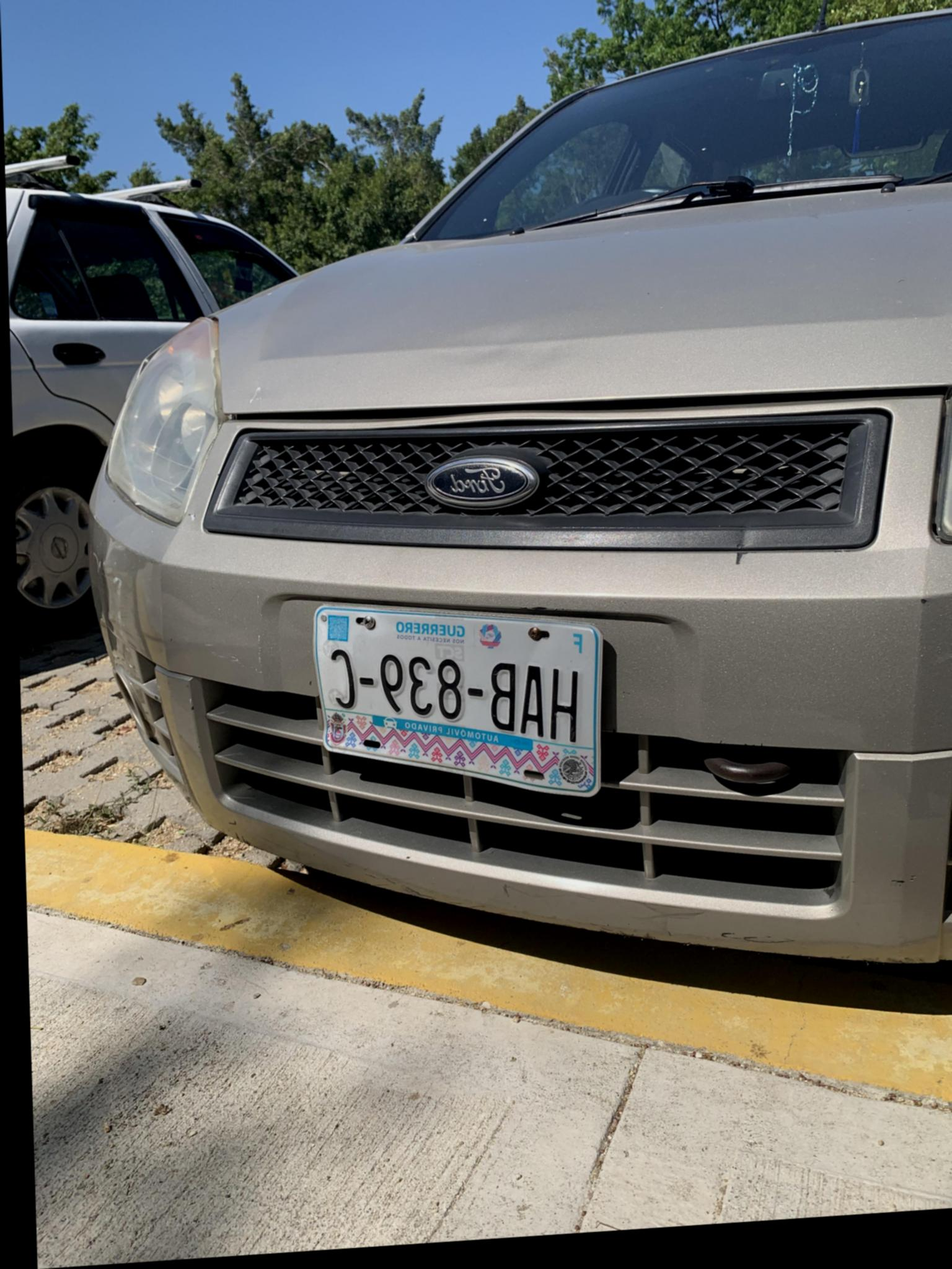License_Plate: (286, 579, 644, 816)
